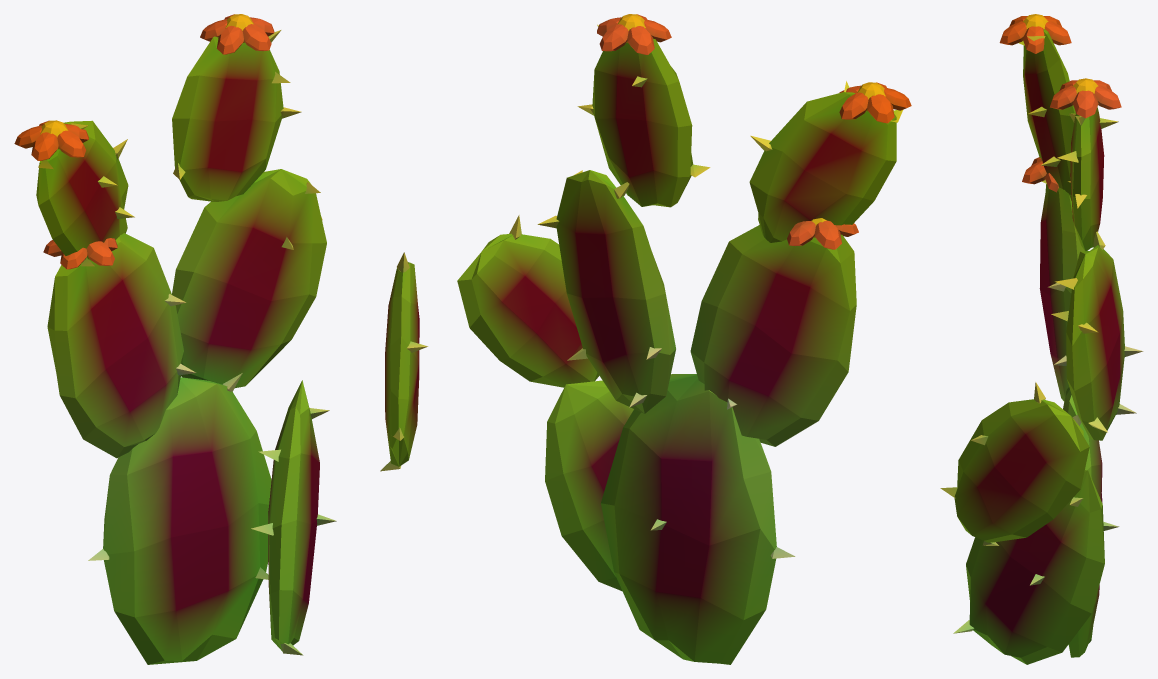
File: Cactus_Prickly_01.fbx
3 views of the same model, side by side, from view 1: azimuth 30°, elevation 25°; view 2: azimuth 150°, elevation 25°; view 3: azimuth 270°, elevation 25° (orthographic). The views are drawn at different scales.
Visible parts, largest first — view 1: Cactus_Prickly_01; view 2: Cactus_Prickly_01; view 3: Cactus_Prickly_01.
Part boxes in pixels (x1=…): Cactus_Prickly_01: x1=14, y1=14, x2=428, y2=664; Cactus_Prickly_01: x1=457, y1=14, x2=911, y2=664; Cactus_Prickly_01: x1=940, y1=14, x2=1143, y2=664.
Bounding box in the file's own units: 1.07 × 1.56 × 0.4809.
